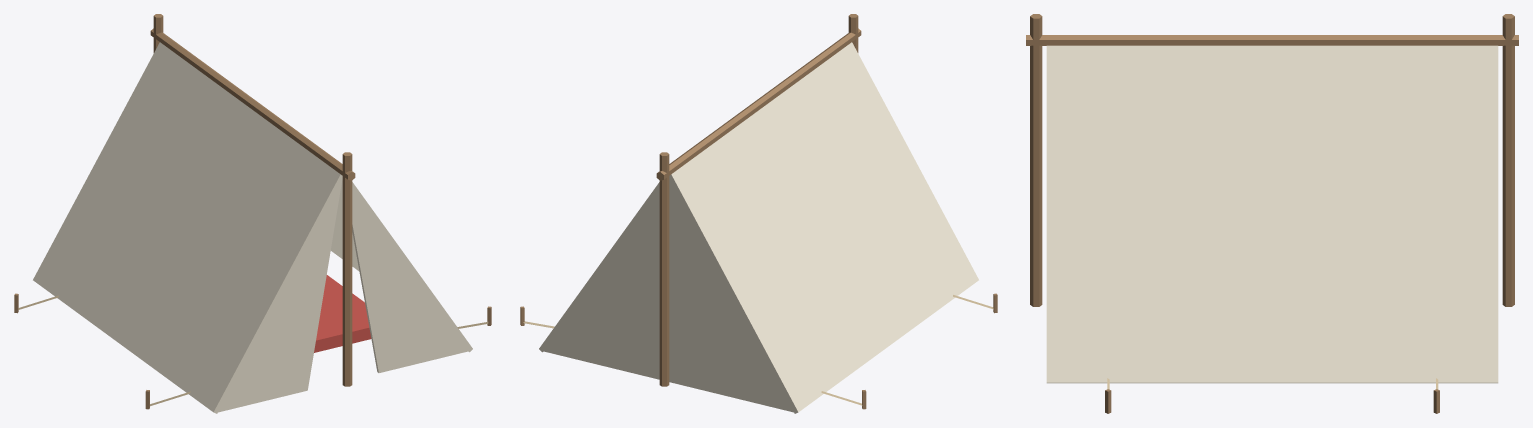
The model's file is SM_Tent.glb.
3 renders of one model, left to right at view 1: azimuth 30°, elevation 25°; view 2: azimuth 150°, elevation 25°; view 3: azimuth 270°, elevation 25°, orthographic. The views are drawn at different scales.
Parts seen in each view (by area): view 1: SM_Tent; view 2: SM_Tent; view 3: SM_Tent.
Part boxes in pixels (box(x1,y1,x2,y2)): SM_Tent: box(14, 14, 491, 413); SM_Tent: box(520, 14, 997, 413); SM_Tent: box(1026, 14, 1518, 413).
Bounding box in the file's own units: 2.43 × 1.57 × 2.4.
